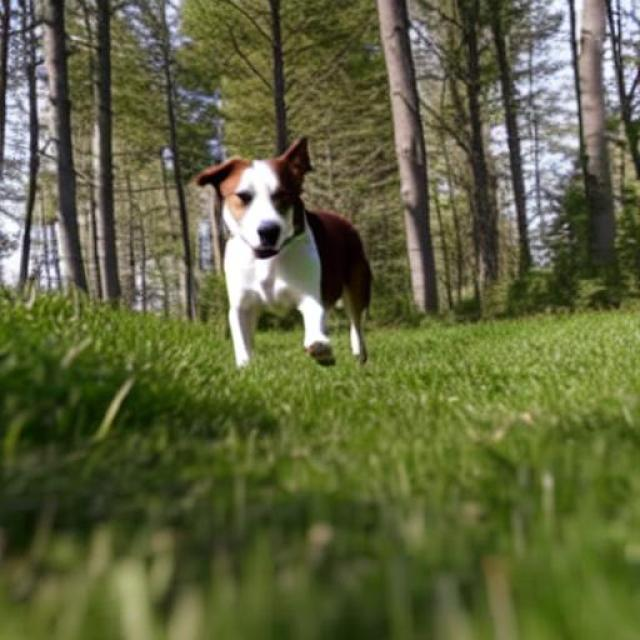Dog: (196, 135, 375, 371)
